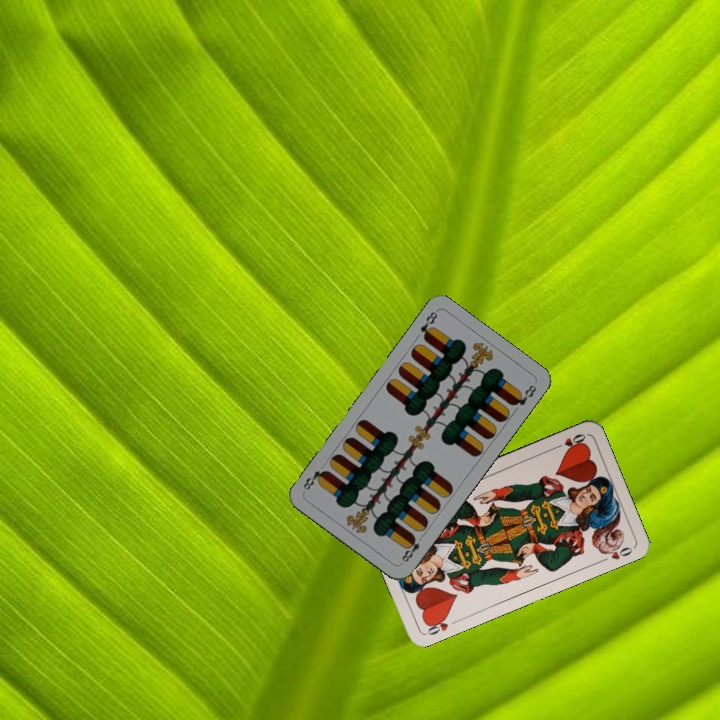E8: (397, 531, 426, 566), (416, 307, 440, 343)
HO: (422, 612, 461, 638), (550, 430, 588, 453)
